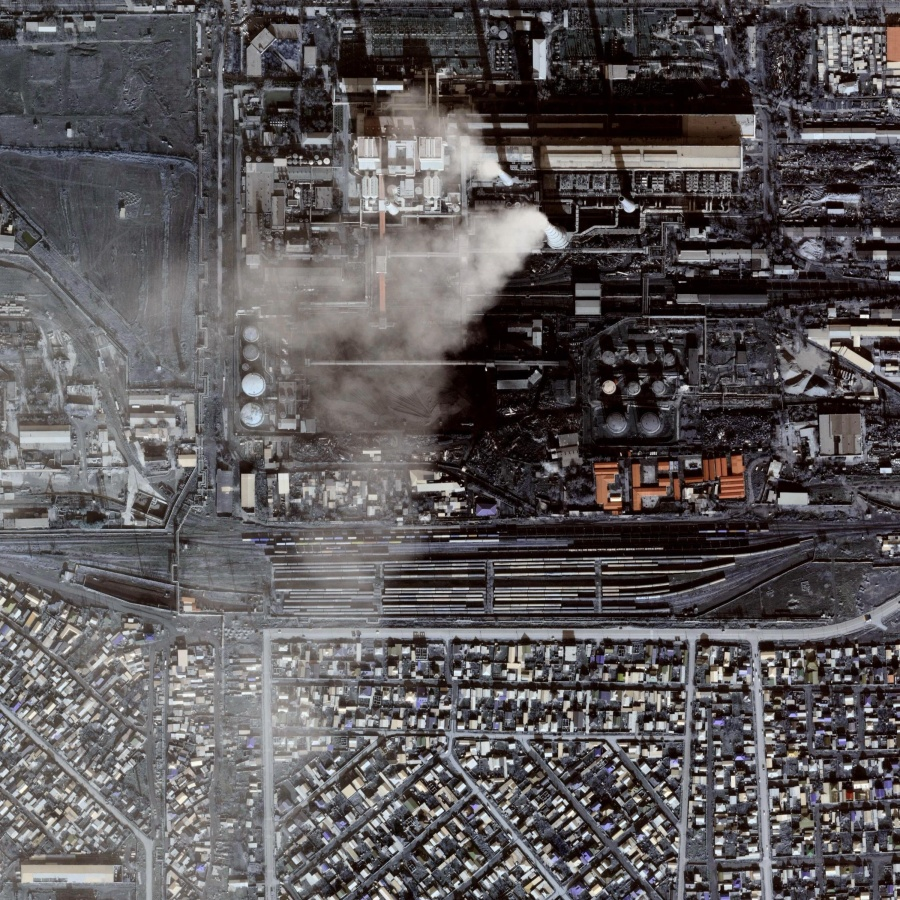PowerPlant: (245, 135, 749, 449)
